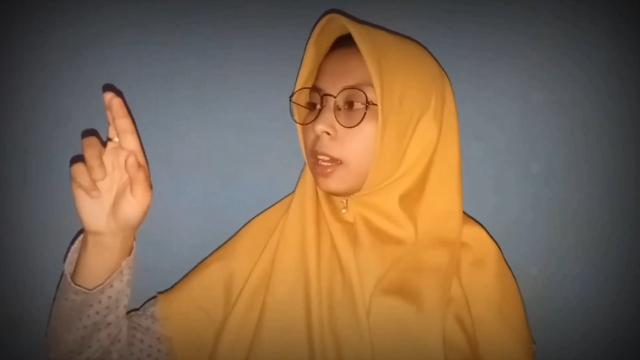R: (64, 79, 158, 235)
